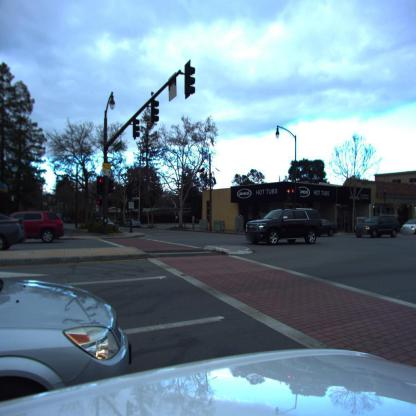car: (1, 278, 133, 416), (245, 208, 324, 245), (11, 210, 64, 243), (0, 212, 26, 252), (355, 216, 400, 238), (320, 218, 335, 237), (401, 218, 416, 235)
